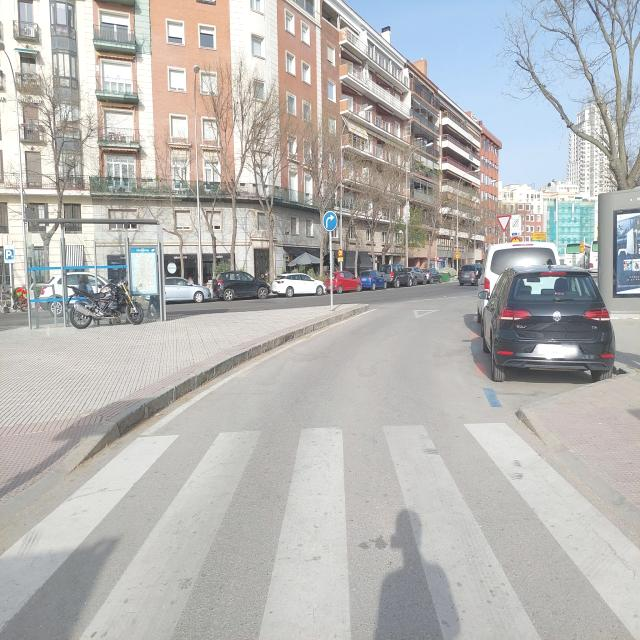bike: (68, 288, 140, 328)
car: (481, 264, 616, 383), (478, 241, 560, 323), (212, 269, 270, 301), (163, 276, 213, 304), (270, 272, 326, 296), (327, 270, 362, 293), (379, 263, 409, 287), (359, 269, 387, 290), (459, 264, 479, 286), (413, 266, 428, 285), (404, 266, 418, 286), (424, 267, 441, 283)
